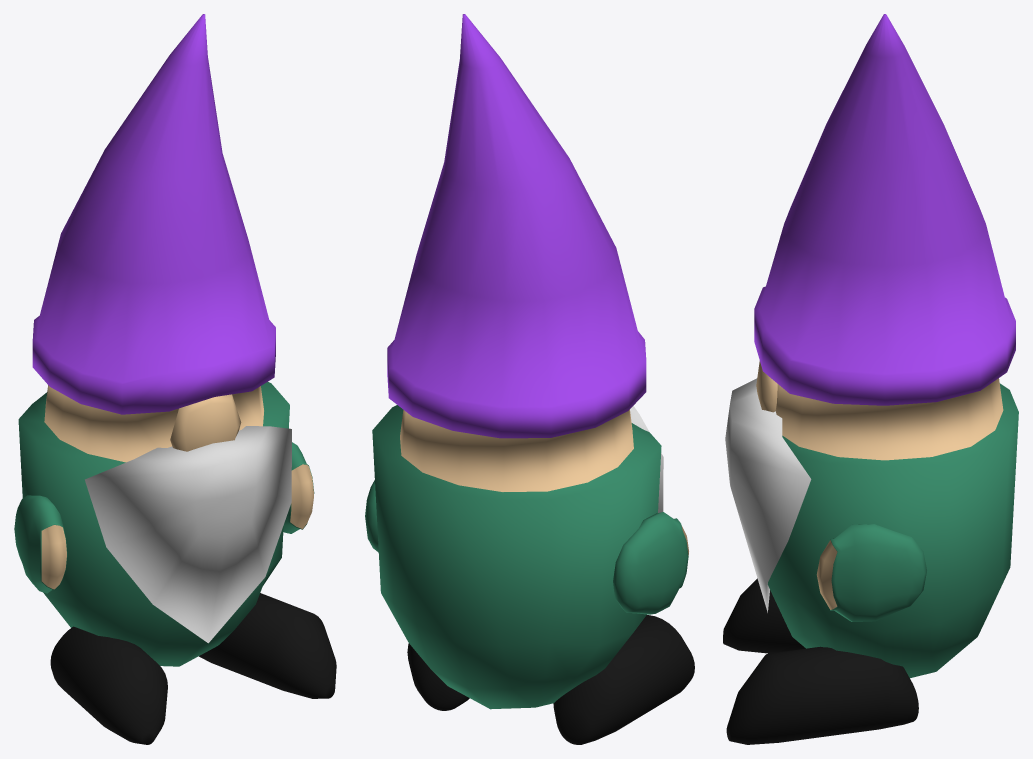
Rendered from garden_gnome.fbx.
3 renders of one model, left to right at view 1: azimuth 30°, elevation 25°; view 2: azimuth 150°, elevation 25°; view 3: azimuth 270°, elevation 25°, orthographic. The views are drawn at different scales.
Parts seen in each view (by area): view 1: Gnome; view 2: Gnome; view 3: Gnome.
Part boxes in pixels (<box>): Gnome: <box>14,14,336,744</box>; Gnome: <box>365,14,694,744</box>; Gnome: <box>723,14,1018,744</box>.
Size of the model in its own units: 247 by 549 by 210.
